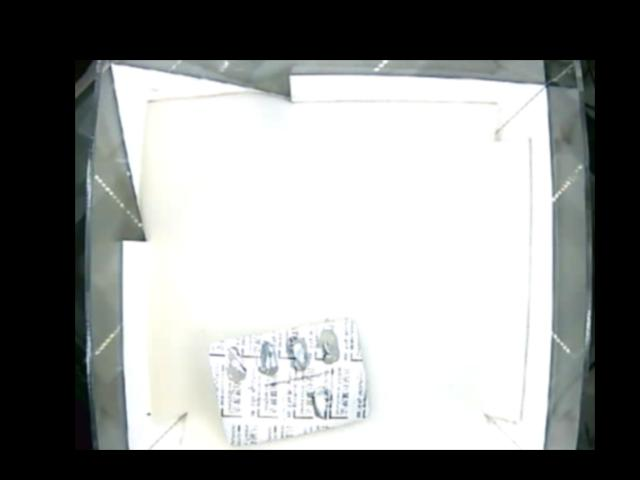Medicine: (209, 319, 370, 446)
